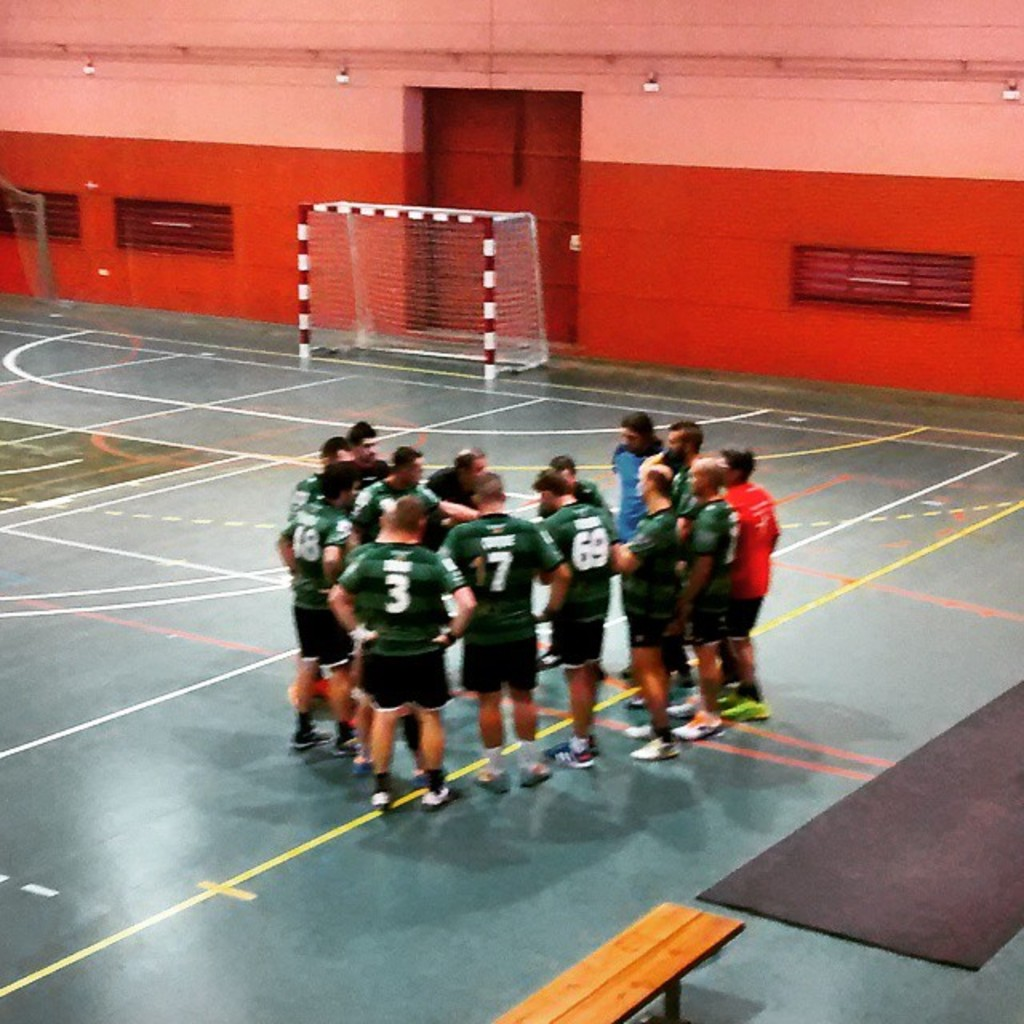Footwear: (677, 704, 726, 744), (542, 739, 590, 771), (418, 779, 464, 808), (627, 736, 677, 762), (722, 698, 771, 723), (288, 722, 333, 749), (472, 765, 512, 794), (346, 750, 373, 787), (662, 693, 699, 720), (518, 758, 547, 792), (366, 781, 394, 816), (710, 685, 749, 707), (331, 734, 355, 758), (621, 722, 653, 738)
